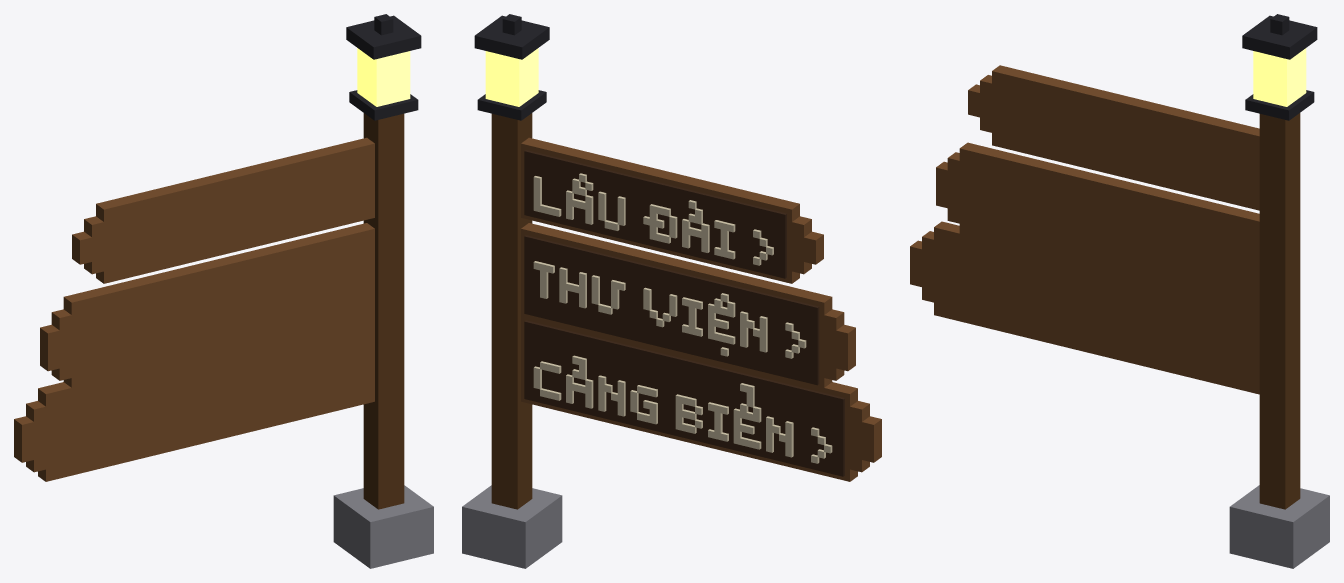
File: tt-signpost-east.glb
The picture shows the model from 3 angles, left to right: view 1: azimuth 30°, elevation 25°; view 2: azimuth 150°, elevation 25°; view 3: azimuth 330°, elevation 25°; orthographic projection.
Visible parts, largest first — view 1: box-prop; view 2: box-prop; view 3: box-prop.
Boxes of the visible parts, box(x1,y1,x2,y2) form: box-prop: box(14, 14, 433, 568); box-prop: box(462, 14, 881, 568); box-prop: box(910, 14, 1329, 568).
Size of the model in its own units: 4 by 5.1 by 0.64.
